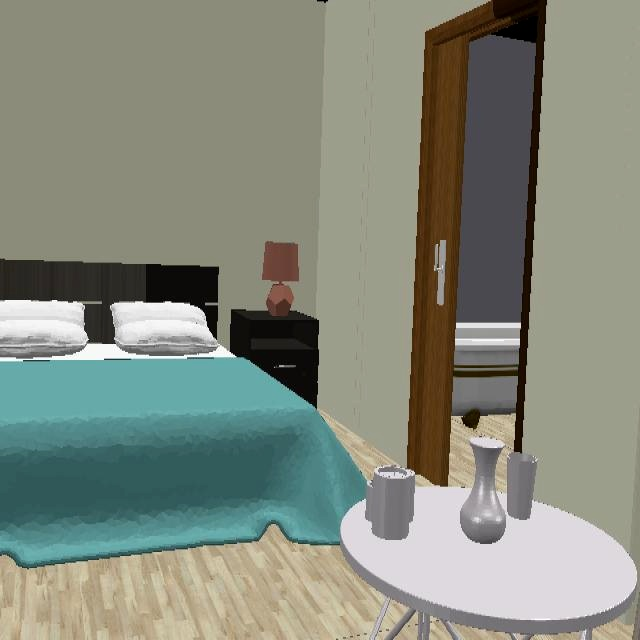bed: (0, 259, 368, 571)
lamp: (262, 241, 300, 317)
nighttable: (230, 312, 318, 405)
table: (341, 487, 640, 640)
